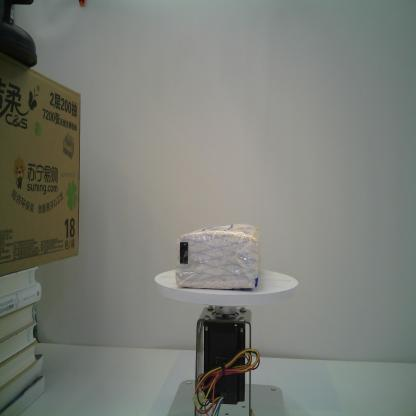Tissue: (173, 221, 262, 292)
